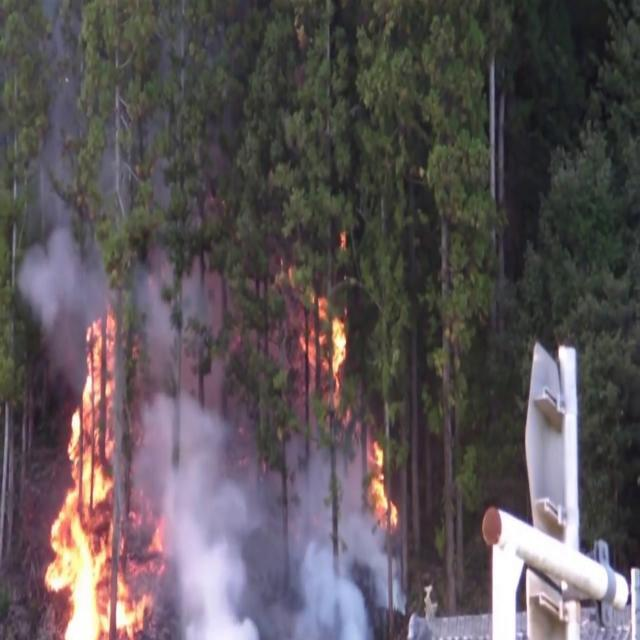Fire: (37, 304, 163, 640), (298, 297, 342, 408), (365, 438, 398, 528)
